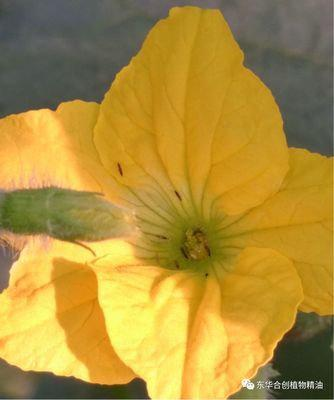tiny_pests: (113, 158, 125, 179), (172, 186, 184, 203)
